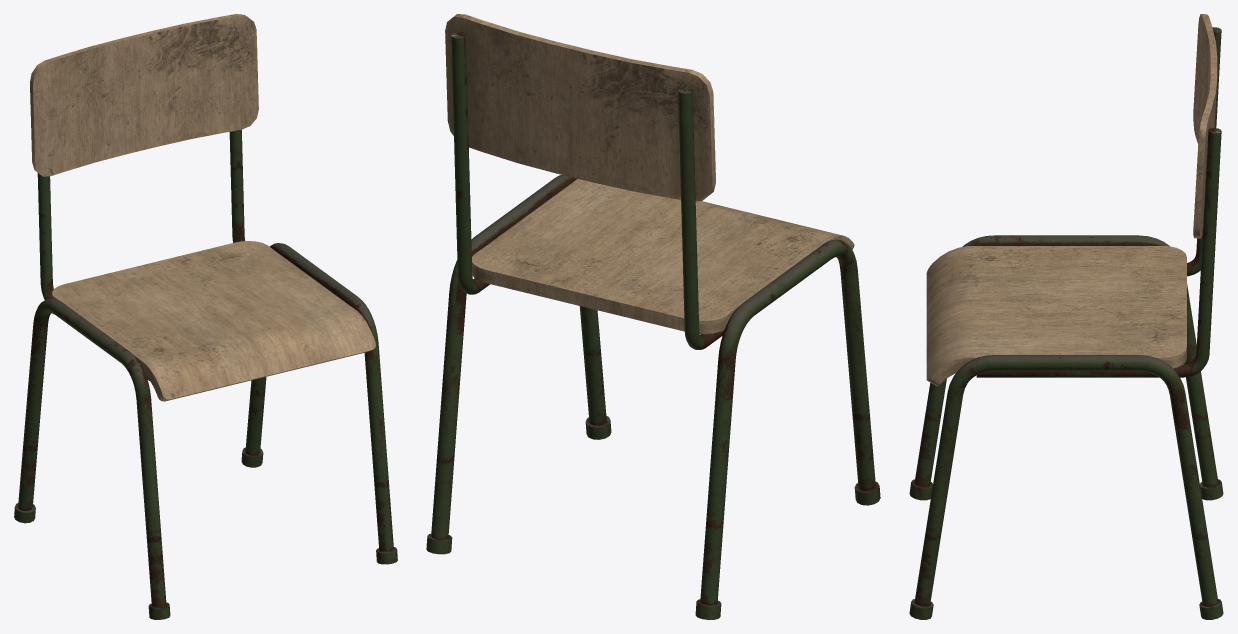
Rendered from student_chair.glb.
The picture shows the model from 3 angles, left to right: view 1: azimuth 30°, elevation 25°; view 2: azimuth 150°, elevation 25°; view 3: azimuth 270°, elevation 25°; orthographic projection. The views are drawn at different scales.
Visible parts, largest first — view 1: Sch_Chair; view 2: Sch_Chair; view 3: Sch_Chair.
Boxes of the visible parts, x1,y1,x2,y2 form: Sch_Chair: (14,14,397,619); Sch_Chair: (426,14,880,619); Sch_Chair: (909,14,1223,619).
Bounding box in the file's own units: 0.4614 × 0.8169 × 0.474.
1 material, 1 textured.
